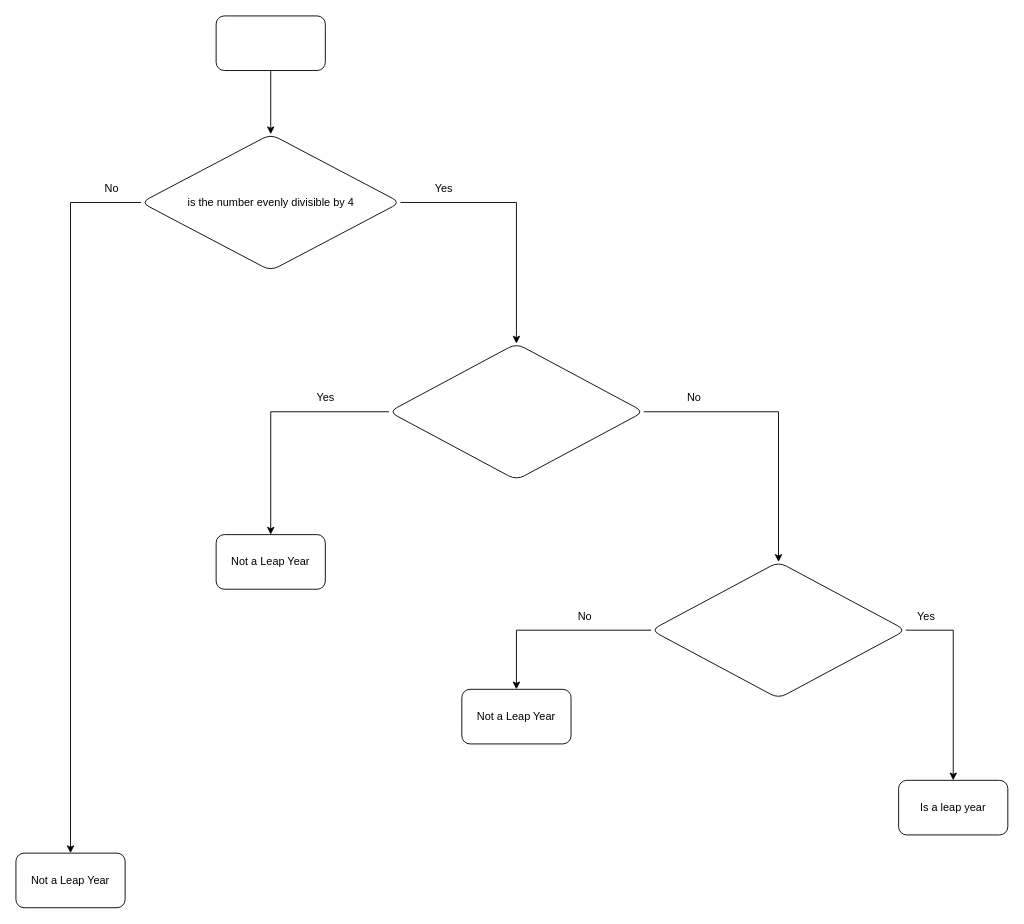
This 1024x924 diagram has some shape labels left out. The centre of each missing label's shape, as x and y in pixels:
is the year evenly divisible by 100: (516,411)
is the year evenly divisible by 400: (778,629)
Start: (270,43)
